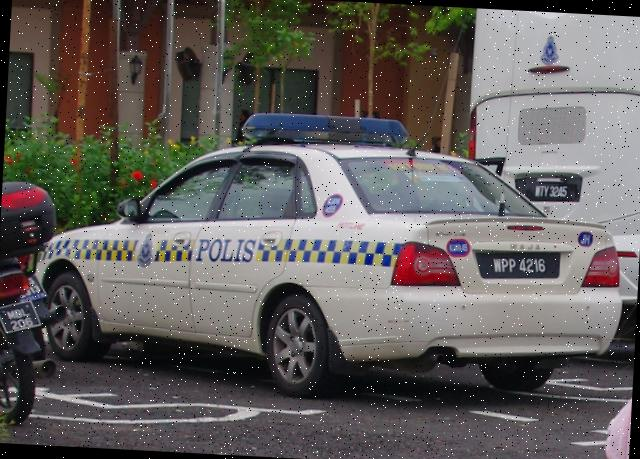License_Plate: (484, 254, 555, 279), (1, 299, 44, 336)
car: (26, 99, 631, 415)
